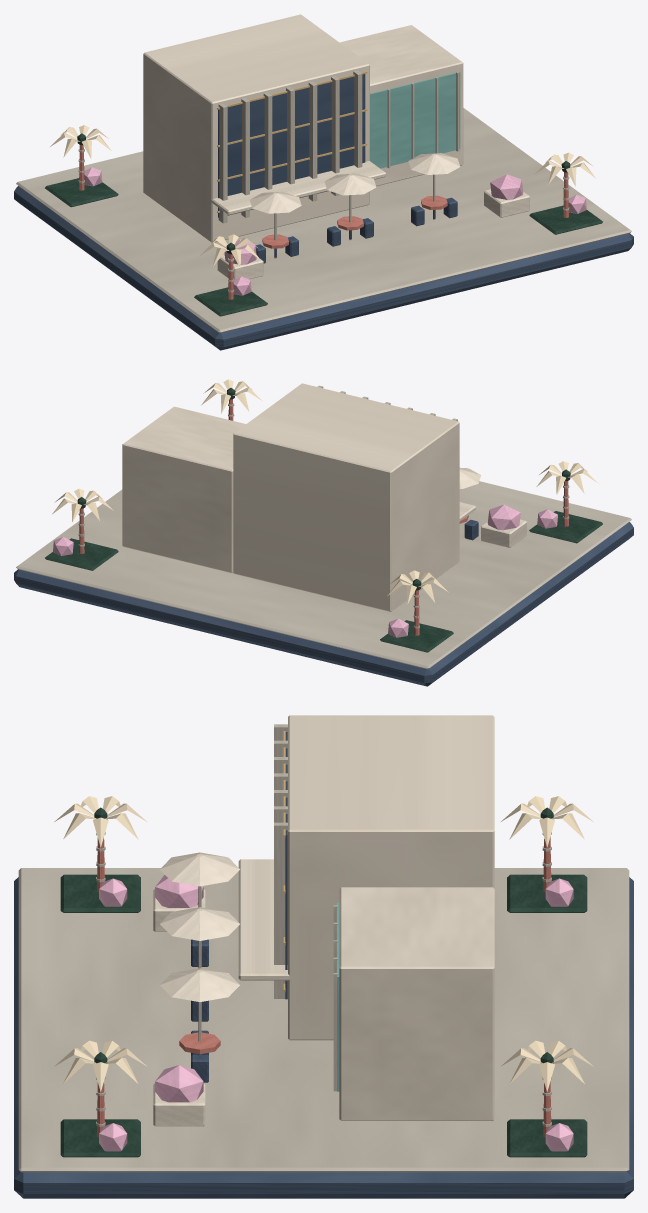
Rendered from white-waterway-diorama.glb.
The picture shows the model from 3 angles, top to bottom: view 1: azimuth 30°, elevation 25°; view 2: azimuth 150°, elevation 25°; view 3: azimuth 270°, elevation 25°; orthographic projection. The views are drawn at different scales.
Parts seen in each view (by area): view 1: white-waterway; view 2: white-waterway; view 3: white-waterway.
Boxes of the visible parts, left/top/right/bottom form: white-waterway: left=14, top=14, right=633, bottom=350; white-waterway: left=14, top=379, right=633, bottom=686; white-waterway: left=14, top=715, right=633, bottom=1198.
Size of the model in its own units: 14 by 5.22 by 12.
1 material, 1 textured.
